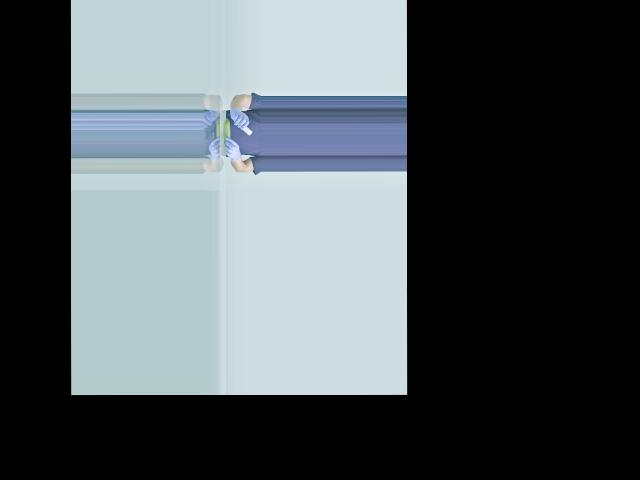cucumber: (223, 118, 230, 146)
